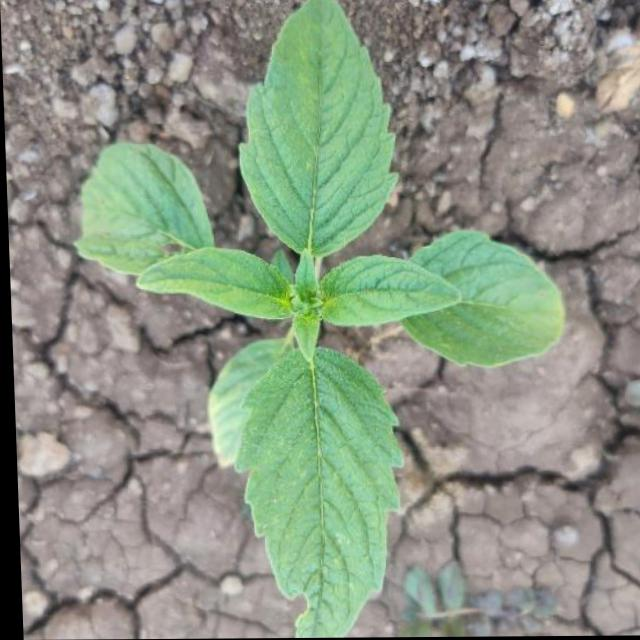crop: (74, 1, 590, 640)
